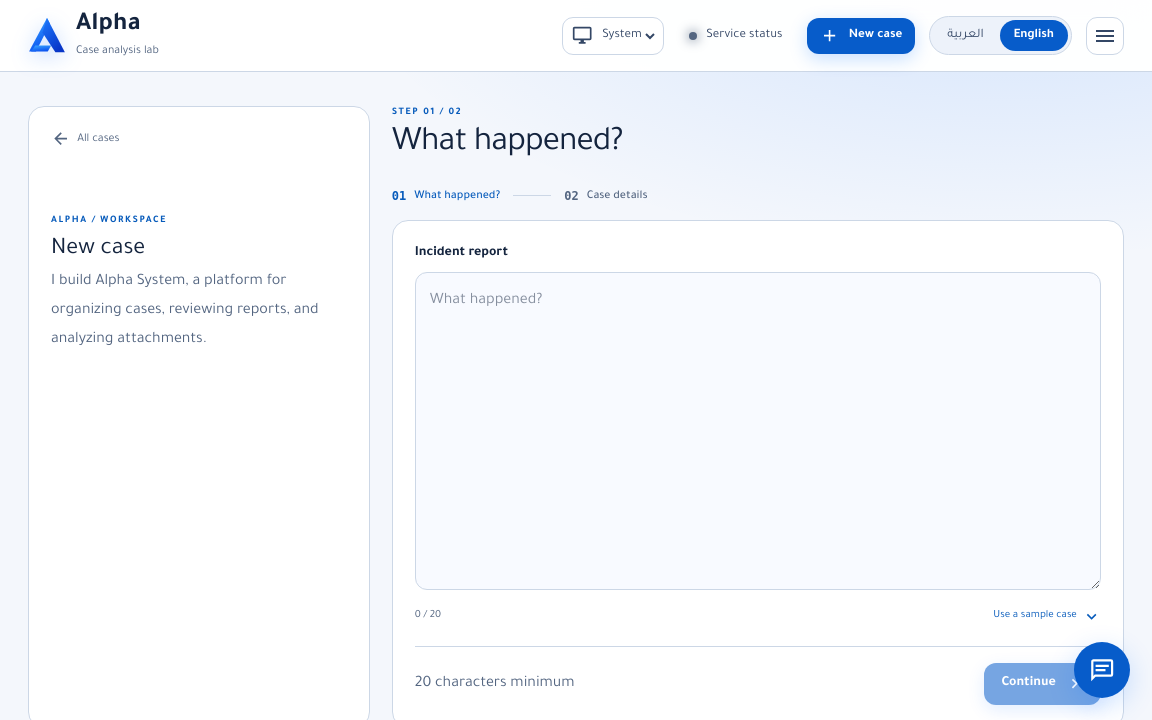
application shell › fills suggested fields without waiting for the location lookup
The width and height of the screenshot is (1152, 720).
In the text box labelled "Incident report": (758, 431) [415, 272, 1101, 590], type "A detailed incident report for testing the case creation flow."
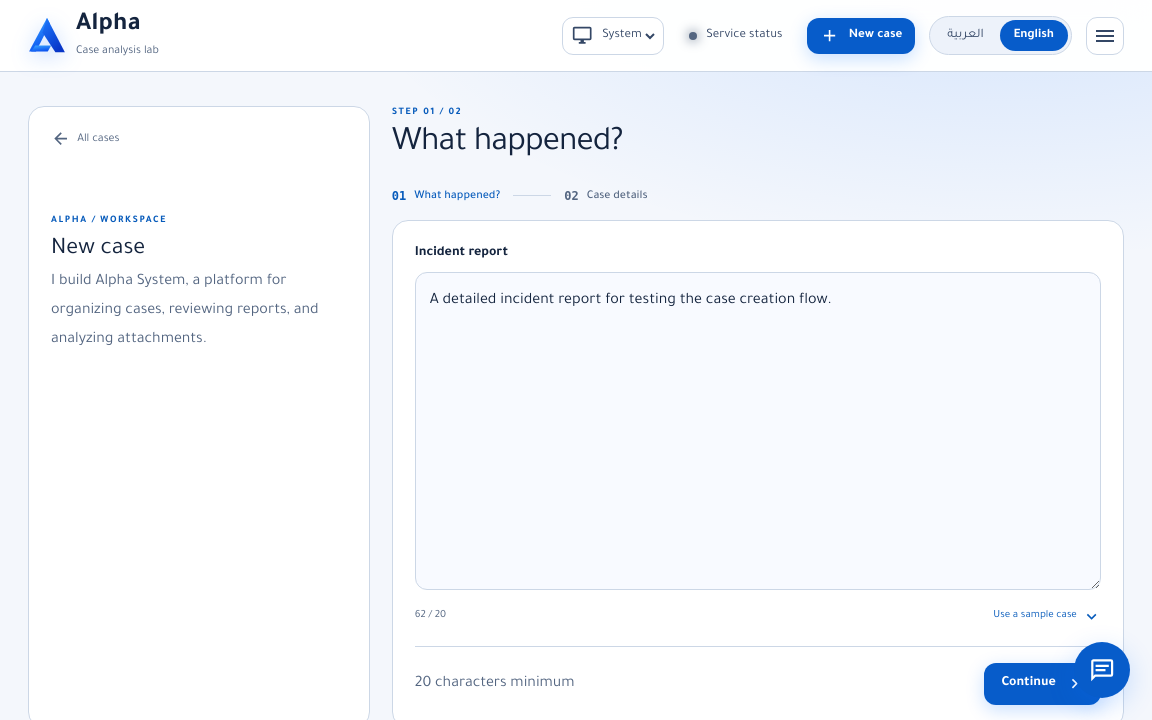
Click the button "Continue": (1043, 684) [984, 663, 1101, 705]
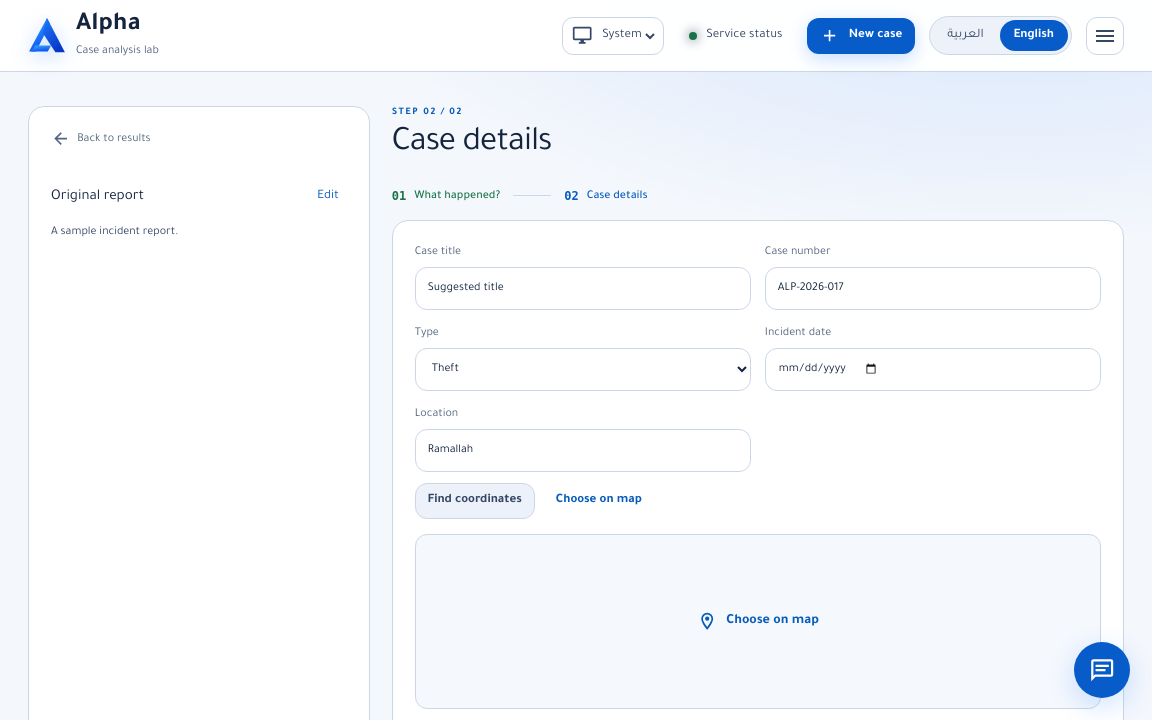
Now the heading "Case details" is shown, box [392, 124, 552, 165]
Now the field labelled "Case title" holds "Suggested title", box [415, 267, 751, 310]
Now the field labelled "Location" holds "Ramallah", box [415, 429, 751, 472]
